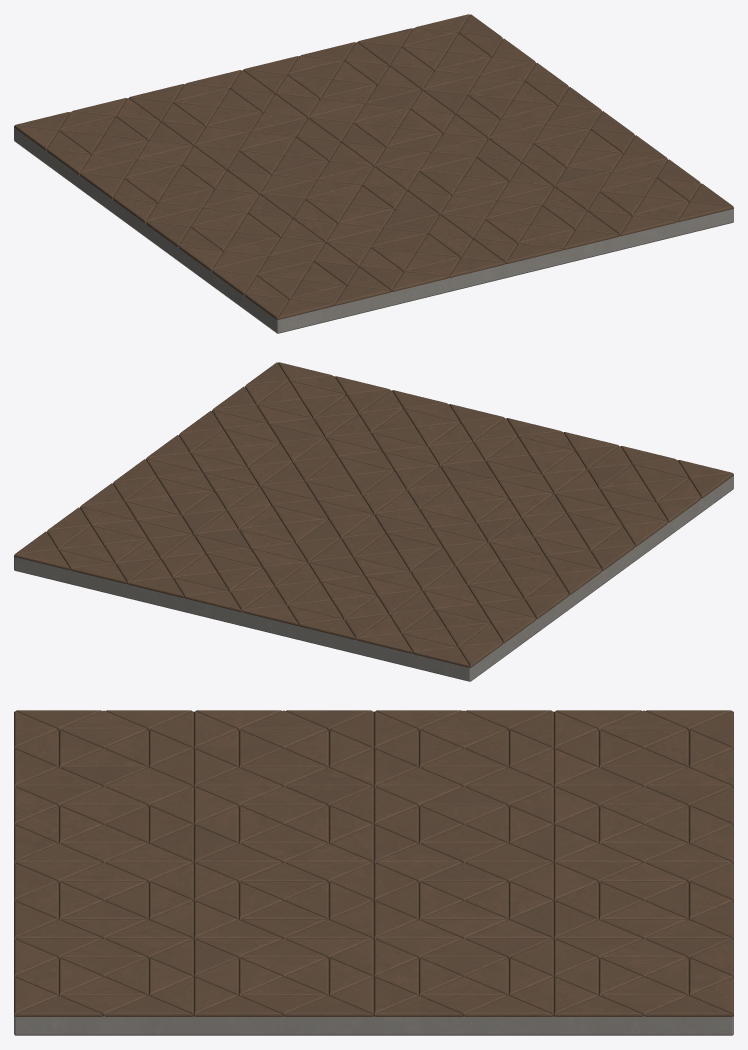
The model's file is SK3 CEILING LARGE.fbx.
3 renders of one model, top to bottom at view 1: azimuth 30°, elevation 25°; view 2: azimuth 150°, elevation 25°; view 3: azimuth 270°, elevation 25°, orthographic. The views are drawn at different scales.
Visible parts, largest first — view 1: SK3 CEILING LARGE; view 2: SK3 CEILING LARGE; view 3: SK3 CEILING LARGE.
Part boxes in pixels (<box>): SK3 CEILING LARGE: <box>14,14,733,333</box>; SK3 CEILING LARGE: <box>14,362,733,681</box>; SK3 CEILING LARGE: <box>14,710,733,1035</box>.
Bounding box in the file's own units: 400 × 13.95 × 400.
